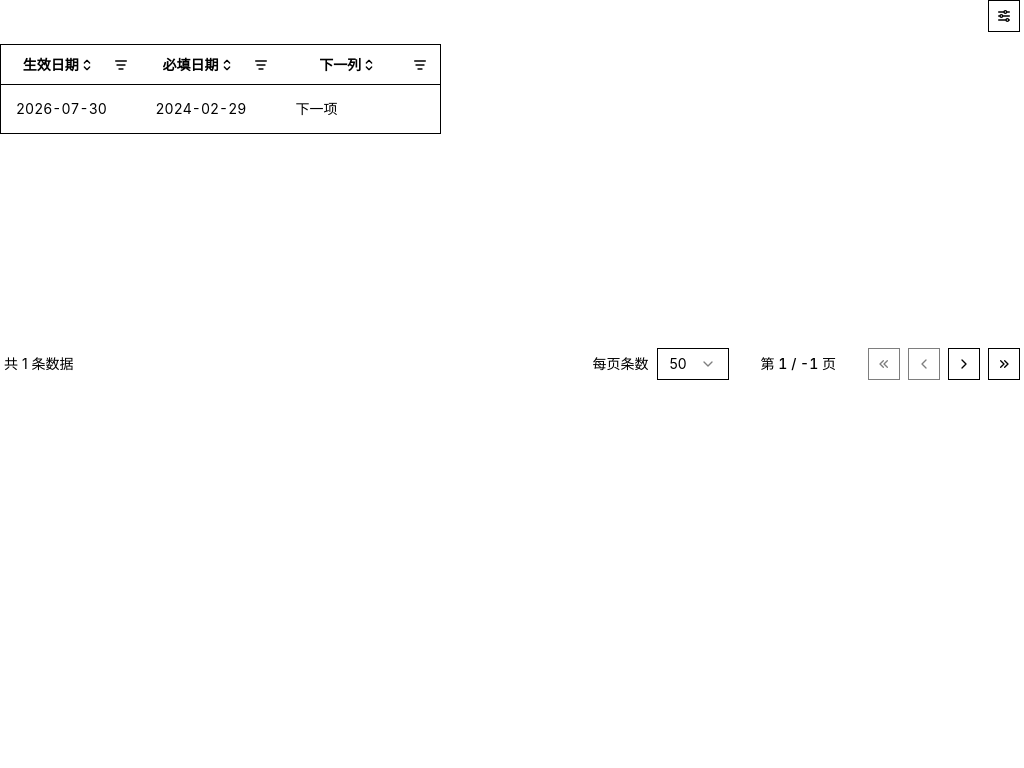
Test: DataTableEditableDateCell › clears nullable dates explicitly and keeps required dates non-empty
Double-click the cell "2026-07-30" at (70, 109), box [0,85,140,133]
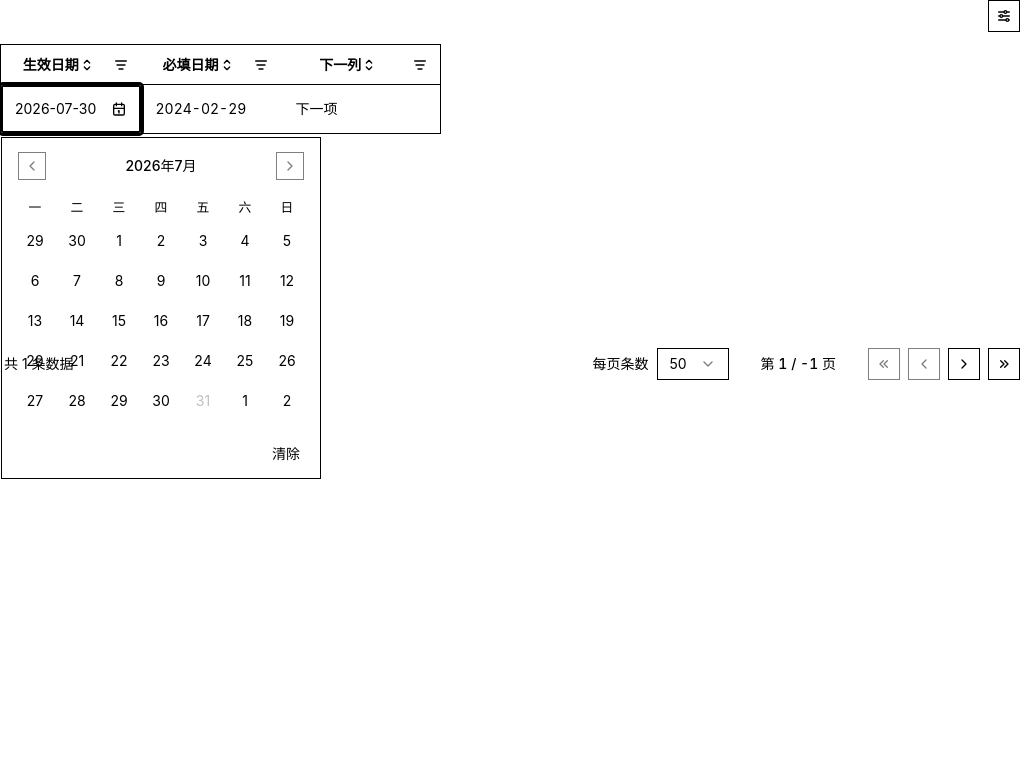
Check: the dialog named "生效日期日历" is shown, box [1,137,321,479]
Click the button with aria-label "清除生效日期" at (286, 454), box [260,438,312,470]
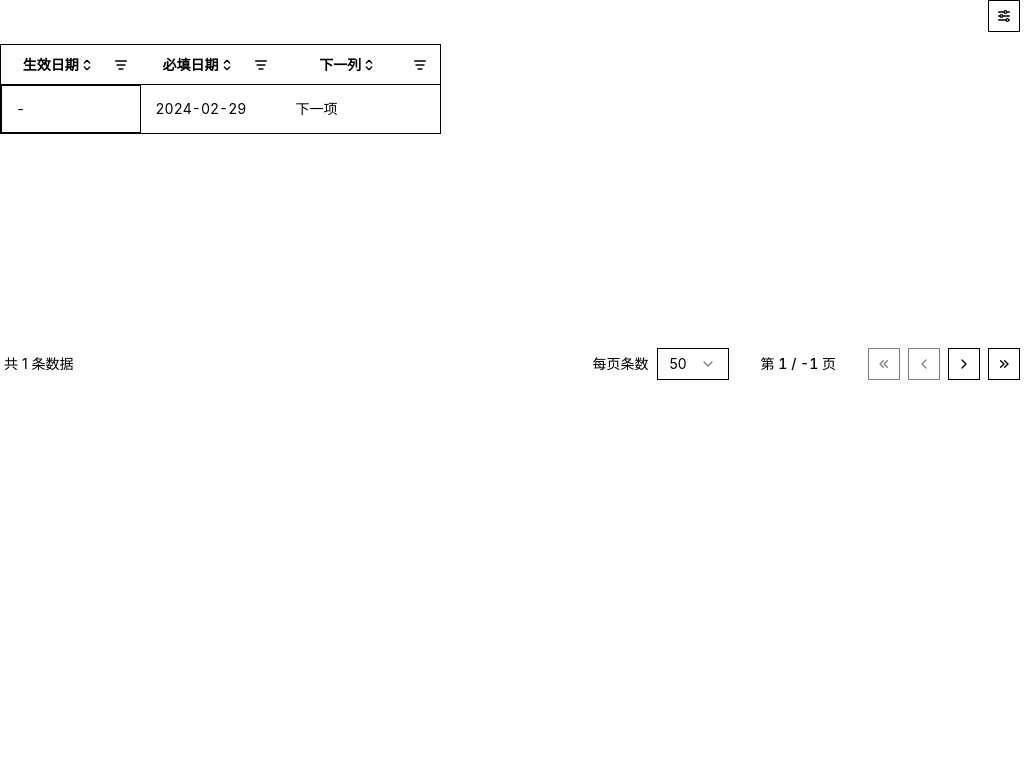
Check: the cell "-" is shown, box [0,85,140,133]
Double-click the cell "2024-02-29" at (210, 109), box [140,85,280,133]
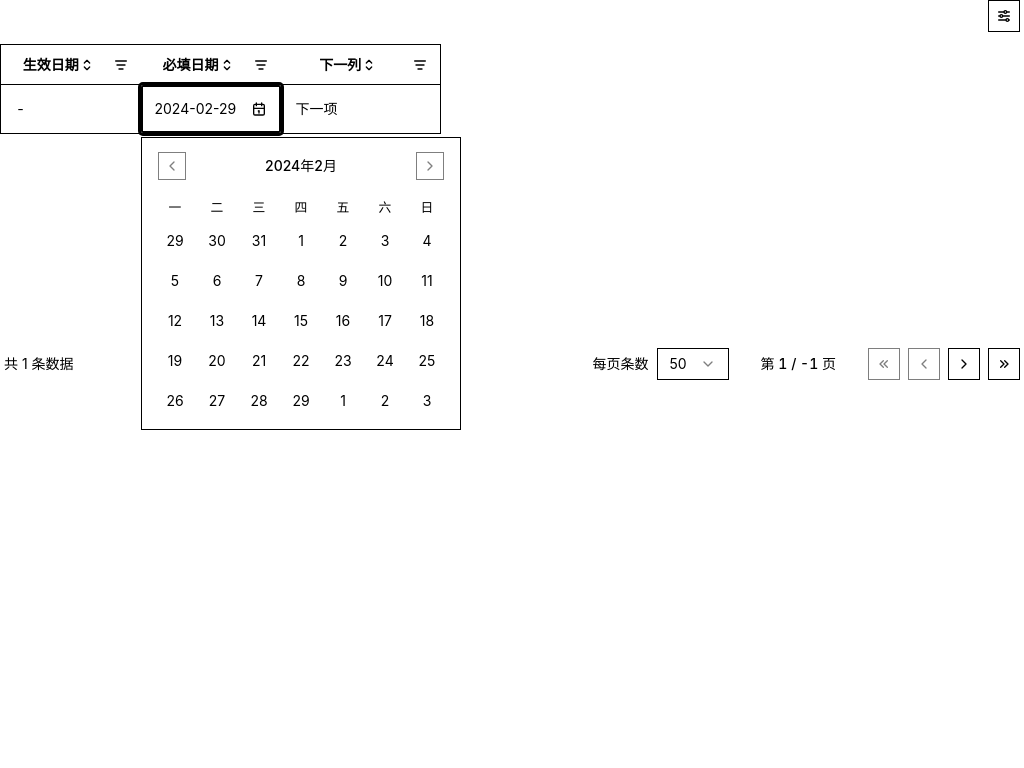
Check: the dialog named "必填日期日历" is shown, box [141,137,461,430]
